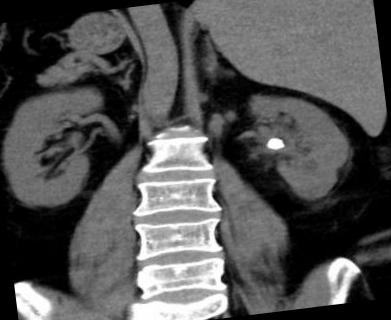Tas_Var: (262, 134, 288, 152)
